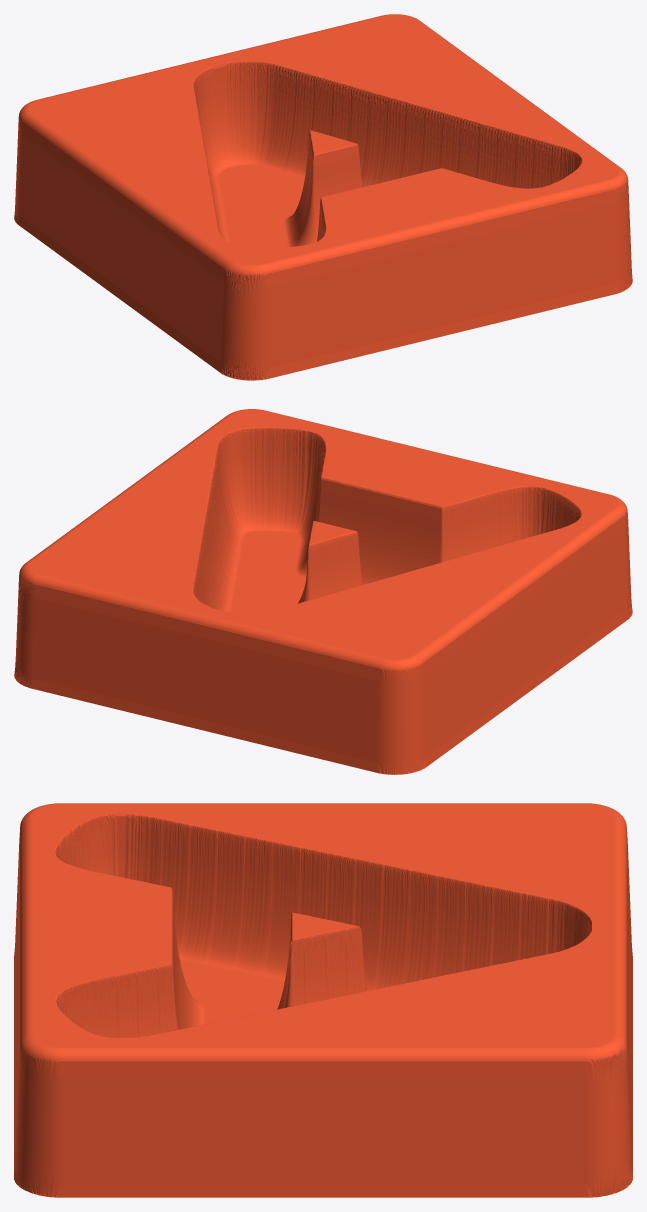
Rendered from mold.glb.
The picture shows the model from 3 angles, top to bottom: view 1: azimuth 30°, elevation 25°; view 2: azimuth 150°, elevation 25°; view 3: azimuth 270°, elevation 25°; orthographic projection. The views are drawn at different scales.
Visible parts, largest first — view 1: geometry_0; view 2: geometry_0; view 3: geometry_0.
Part boxes in pixels (x1,y1,x2,y2): geometry_0: (14, 14, 632, 380); geometry_0: (14, 409, 632, 774); geometry_0: (14, 803, 632, 1197).
Bounding box in the file's own units: 0.1166 × 0.0299 × 0.1178.
